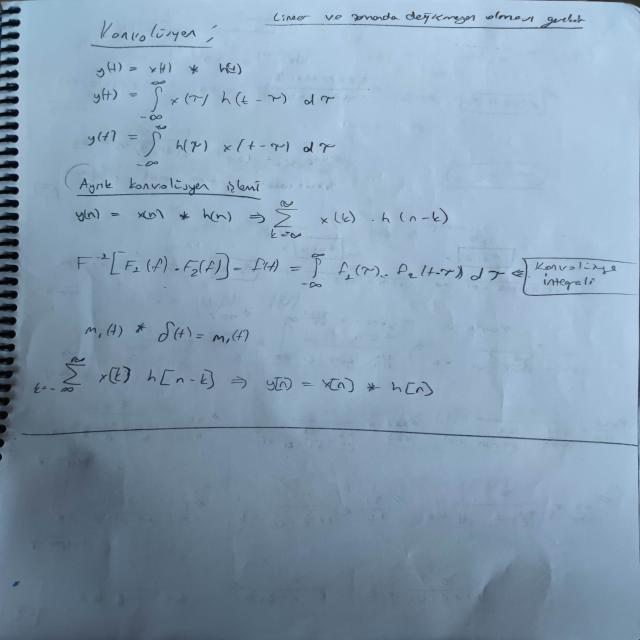math: (86, 55, 343, 170), (30, 352, 438, 410), (64, 243, 510, 292), (70, 200, 460, 242), (77, 315, 261, 351)
text: (264, 0, 587, 31), (69, 172, 269, 202), (94, 18, 210, 50)
